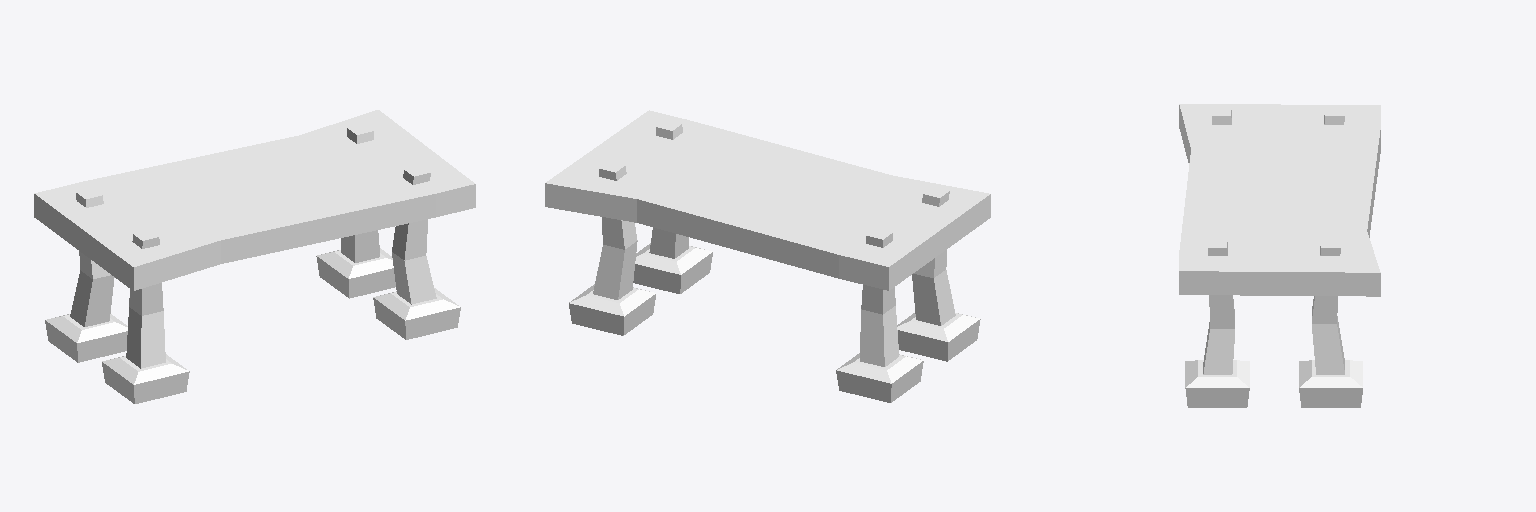
File: table_def.obj
The picture shows the model from 3 angles: view 1: azimuth 30°, elevation 25°; view 2: azimuth 150°, elevation 25°; view 3: azimuth 270°, elevation 25°; orthographic projection.
Parts seen in each view (by area): view 1: pCube59; view 2: pCube59; view 3: pCube59.
Part boxes in pixels (bbox=[...]): pCube59: bbox=[34, 110, 475, 403]; pCube59: bbox=[545, 110, 990, 402]; pCube59: bbox=[1179, 104, 1380, 407].
Size of the model in its own units: 6.19 by 2.6 by 3.12.